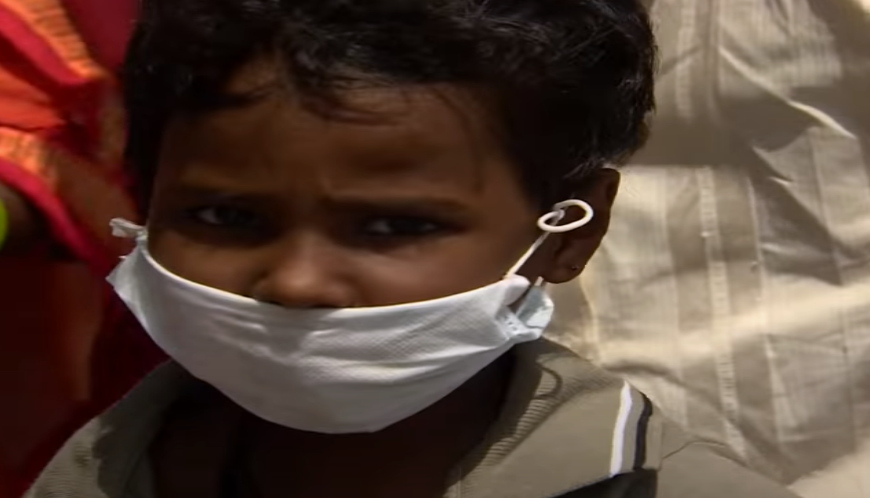mask_weared_incorrect: (103, 7, 609, 436)
